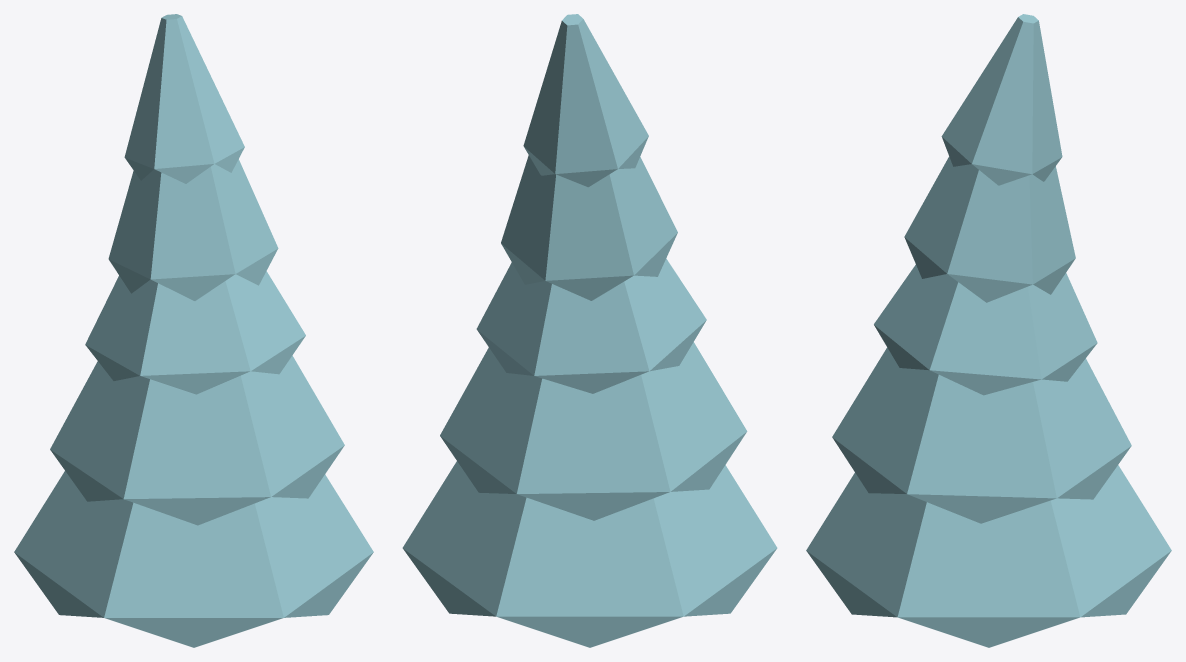
File: tree_pineSmall_round4.glb
3 views of the same model, side by side, from view 1: azimuth 30°, elevation 25°; view 2: azimuth 150°, elevation 25°; view 3: azimuth 270°, elevation 25° (orthographic). The views are drawn at different scales.
Visible parts, largest first — view 1: tree_pineSmall_round4; view 2: tree_pineSmall_round4; view 3: tree_pineSmall_round4.
Boxes of the visible parts, box(x1,y1,x2,y2) form: tree_pineSmall_round4: box(14, 14, 373, 647); tree_pineSmall_round4: box(402, 14, 777, 647); tree_pineSmall_round4: box(806, 14, 1171, 647).
Size of the model in its own units: 0.4804 by 0.9415 by 0.5547.
